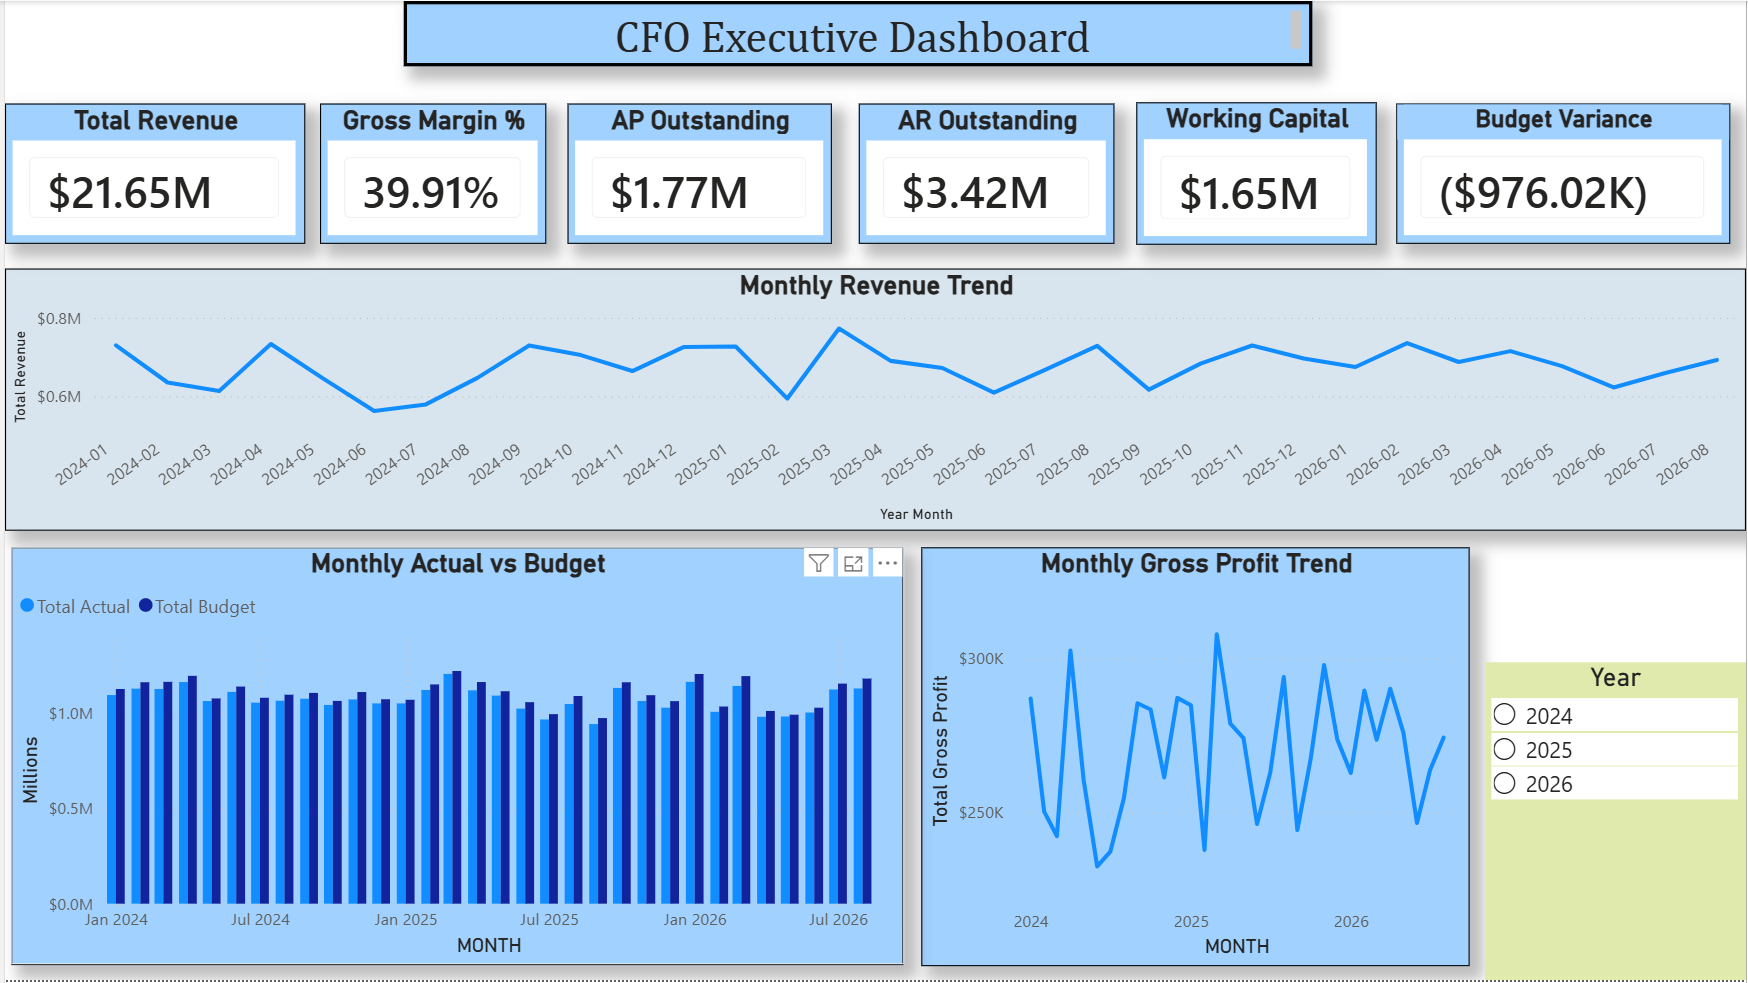

Layout of this report page (visuals, bound fields, positions):
{"tool":"powerbi","page":{"name":"CFO Executive Dashboard","canvas":[1280,720],"ordinal":0},"visuals":[{"type":"lineChart","title":"Monthly Revenue Trend","fields":{"Y":["MART_FINANCIAL_SUMMARY.Total Revenue"],"Category":["Date.Year Month"]},"box":[0,196.5,1280.2,193],"z":0},{"type":"cardVisual","title":"Total Revenue","fields":{"Data":["MART_FINANCIAL_SUMMARY.Total Revenue"]},"box":[0,75.6,220.9,103.5],"z":1000},{"type":"cardVisual","title":"Gross Margin %","fields":{"Data":["MART_FINANCIAL_SUMMARY.Gross Margin %"]},"box":[231.4,75.6,166.3,103.5],"z":2000},{"type":"cardVisual","title":"AP Outstanding","fields":{"Data":["MART_FINANCIAL_SUMMARY.Total AP Outstanding"]},"box":[414,75.6,194.2,103.5],"z":3000},{"type":"cardVisual","title":"AR Outstanding","fields":{"Data":["MART_FINANCIAL_SUMMARY.Total AR Outstanding"]},"box":[627.9,75.6,188.4,103.5],"z":4000},{"type":"cardVisual","title":"Working Capital","fields":{"Data":["MART_FINANCIAL_SUMMARY.Working Capital"]},"box":[831.4,74.4,176.7,104.7],"z":5000},{"type":"lineChart","title":"Monthly Gross Profit Trend","fields":{"Y":["MART_FINANCIAL_SUMMARY.Total Gross Profit"],"Category":["MART_FINANCIAL_SUMMARY.MONTH"]},"box":[673.3,401.2,403.5,308.1],"z":6000},{"type":"clusteredColumnChart","title":"Monthly Actual vs Budget","fields":{"Category":["MART_BUDGET_VARIANCE.MONTH"],"Y":["MART_BUDGET_VARIANCE.Total Actual","MART_BUDGET_VARIANCE.Total Budget"]},"box":[4.7,401.2,655.8,307],"z":7000},{"type":"cardVisual","title":"Budget Variance","fields":{"Data":["MART_BUDGET_VARIANCE.Total Budget Variance"]},"box":[1023.3,75.6,245.3,103.5],"z":8000},{"type":"listSlicer","fields":{"Values":["Date.Year"]},"box":[1088.4,486,191.9,233.7],"z":9000},{"type":"textbox","box":[293.6,0,668.3,48.3],"z":10000}]}

Visuals, with their boxes in screenshot pixels (x1, y1, x2, y2), scaled from the page's 1280x720 canvas onto the 1748x983 screenshot:
"Monthly Revenue Trend" lineChart: BBox(0, 268, 1747, 532)
"Total Revenue" cardVisual: BBox(0, 103, 302, 245)
"Gross Margin %" cardVisual: BBox(316, 103, 543, 245)
"AP Outstanding" cardVisual: BBox(565, 103, 831, 245)
"AR Outstanding" cardVisual: BBox(857, 103, 1115, 245)
"Working Capital" cardVisual: BBox(1135, 102, 1377, 245)
"Monthly Gross Profit Trend" lineChart: BBox(919, 548, 1471, 968)
"Monthly Actual vs Budget" clusteredColumnChart: BBox(6, 548, 902, 967)
"Budget Variance" cardVisual: BBox(1397, 103, 1732, 245)
listSlicer - Date.Year: BBox(1486, 664, 1747, 982)
textbox: BBox(401, 0, 1314, 66)
